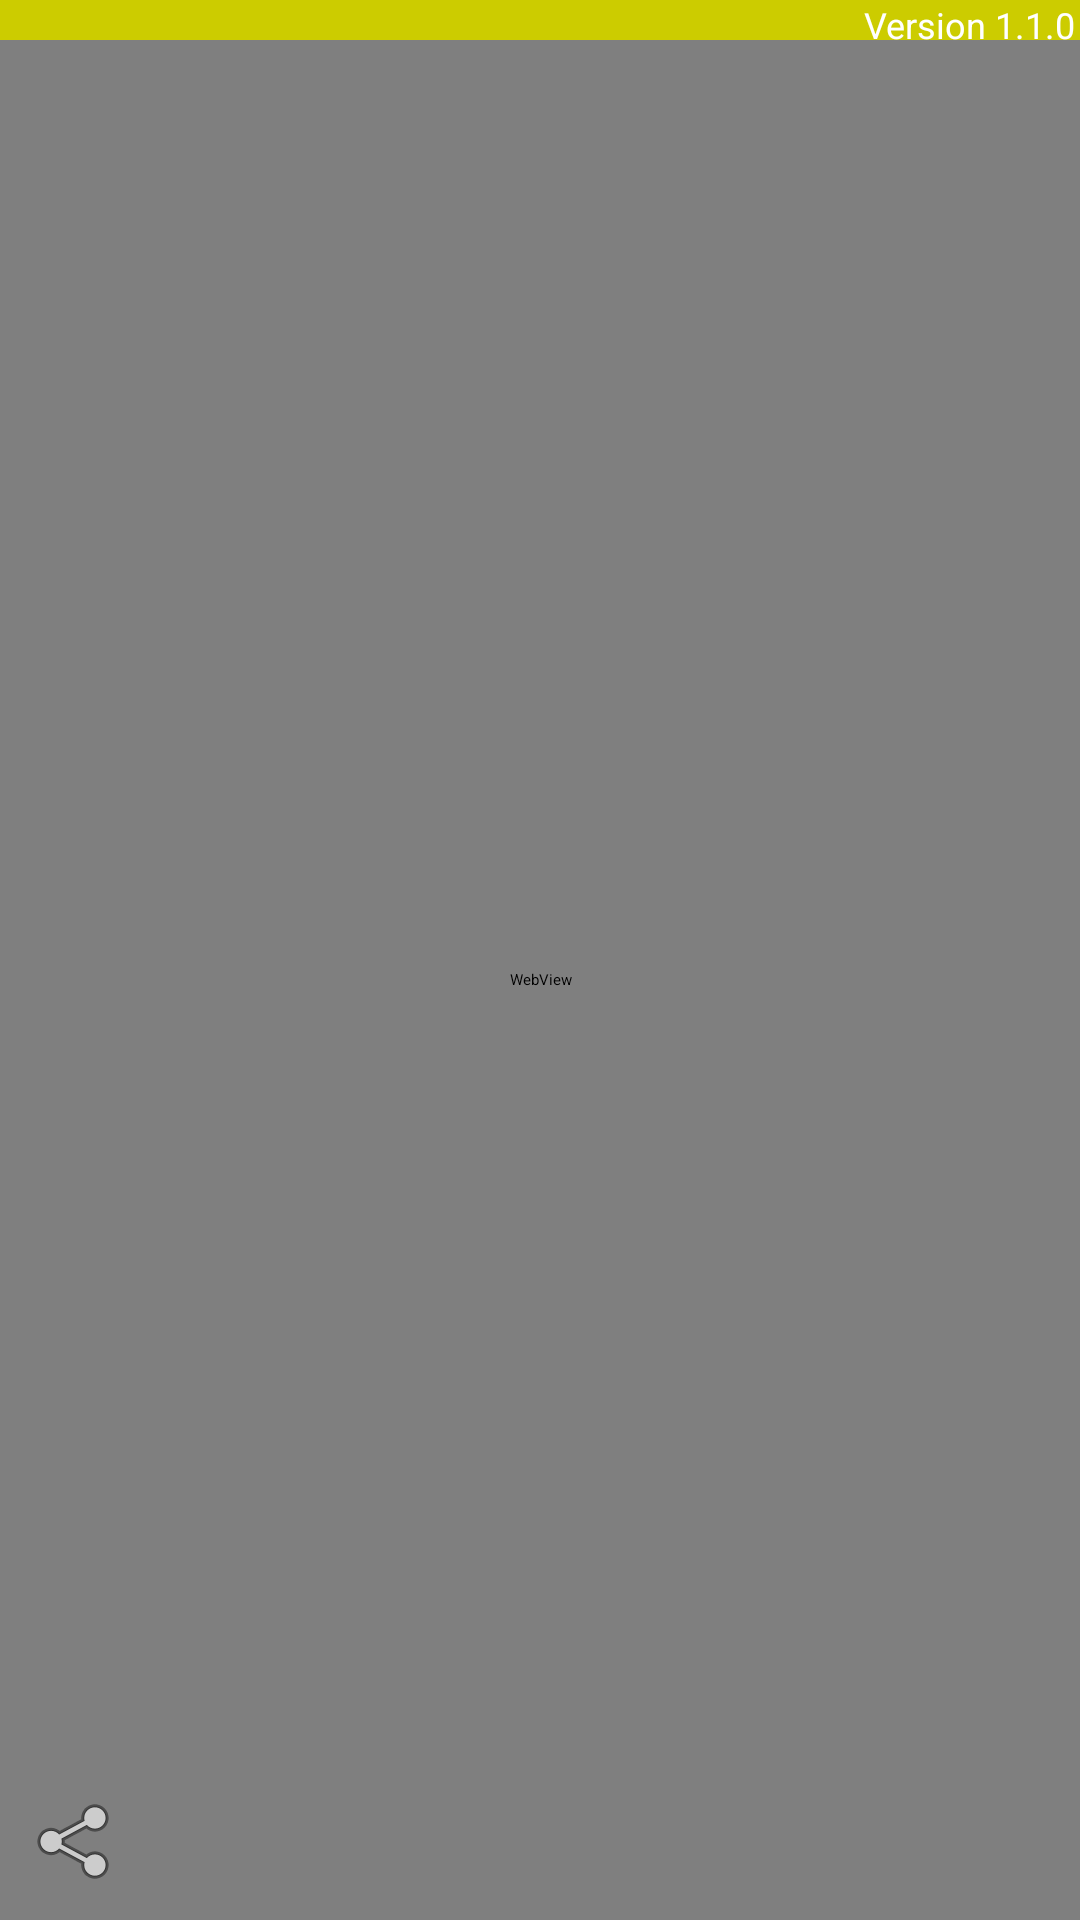

Where icons sit on this 1080*1920 app screen, as (x1, y1, x2, y2):
Share: (37, 1804, 109, 1879)
